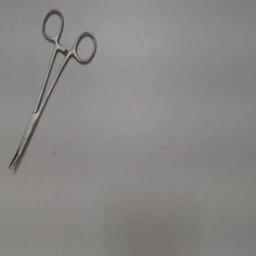Crile Artery Forceps: (4, 4, 100, 176)
